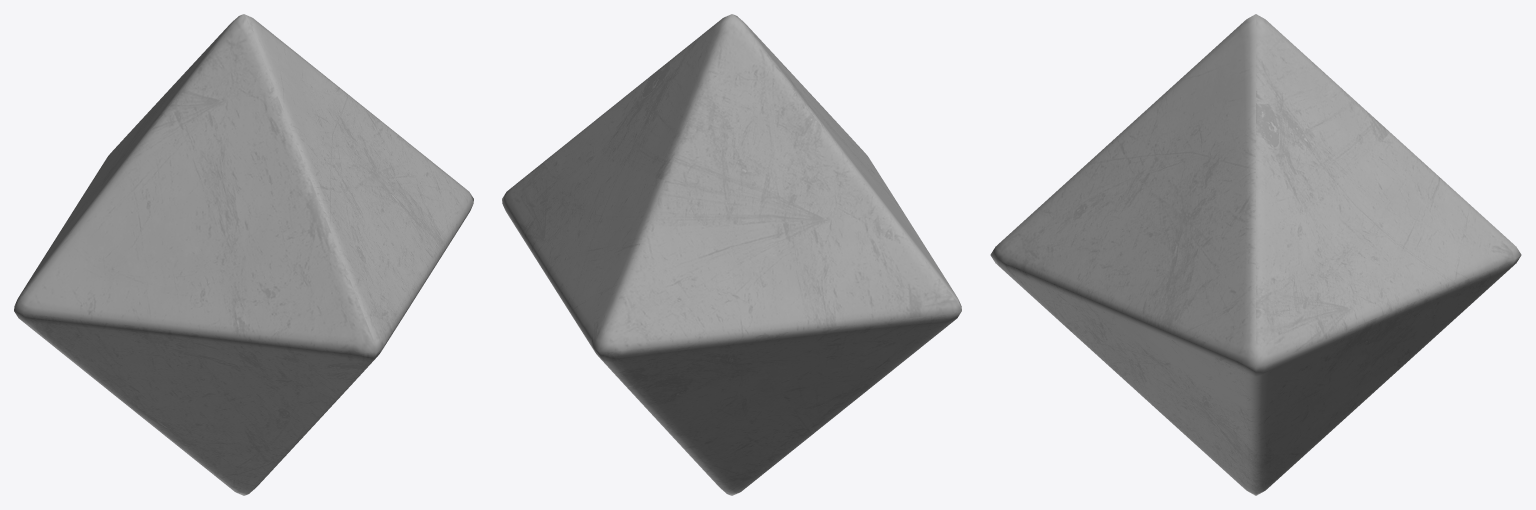
The model's file is TetraDiamond.glb.
3 views of the same model, side by side, from view 1: azimuth 30°, elevation 25°; view 2: azimuth 150°, elevation 25°; view 3: azimuth 270°, elevation 25° (orthographic).
Parts seen in each view (by area): view 1: TetraDiamond; view 2: TetraDiamond; view 3: TetraDiamond.
Part boxes in pixels (x1,y1,x2,y2): TetraDiamond: [14, 14, 473, 495]; TetraDiamond: [502, 14, 961, 495]; TetraDiamond: [990, 14, 1521, 495].
Size of the model in its own units: 2.18 by 2.19 by 2.18.
1 material, 1 textured.
